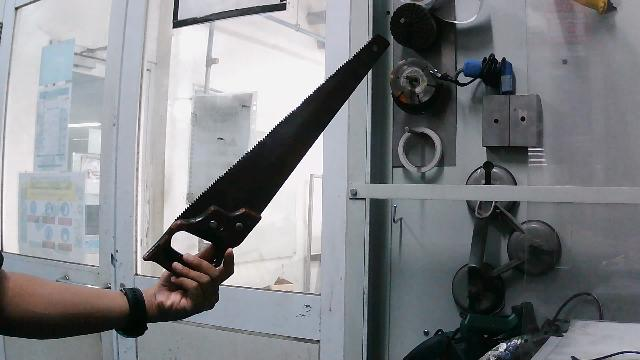gergaji_kayu: (137, 26, 400, 297)
